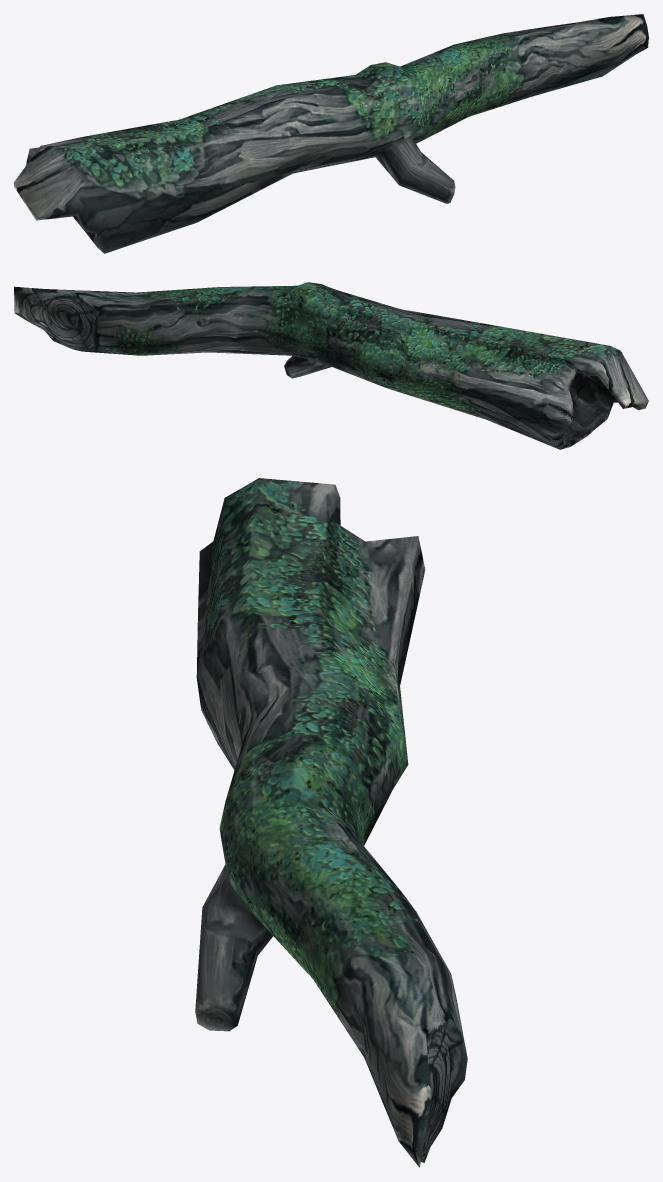
The model's file is dro_tree_small.glb.
The picture shows the model from 3 angles, top to bottom: view 1: azimuth 30°, elevation 25°; view 2: azimuth 150°, elevation 25°; view 3: azimuth 270°, elevation 25°; orthographic projection. The views are drawn at different scales.
Visible parts, largest first — view 1: dro_tree_small; view 2: dro_tree_small; view 3: dro_tree_small.
Part boxes in pixels (box(x1,y1,x2,y2)): dro_tree_small: box(14, 14, 648, 253); dro_tree_small: box(14, 282, 648, 449); dro_tree_small: box(195, 478, 467, 1167).
Bounding box in the file's own units: 3.24 × 0.6203 × 0.6448.
Materials: 1 (1 with a texture image).
